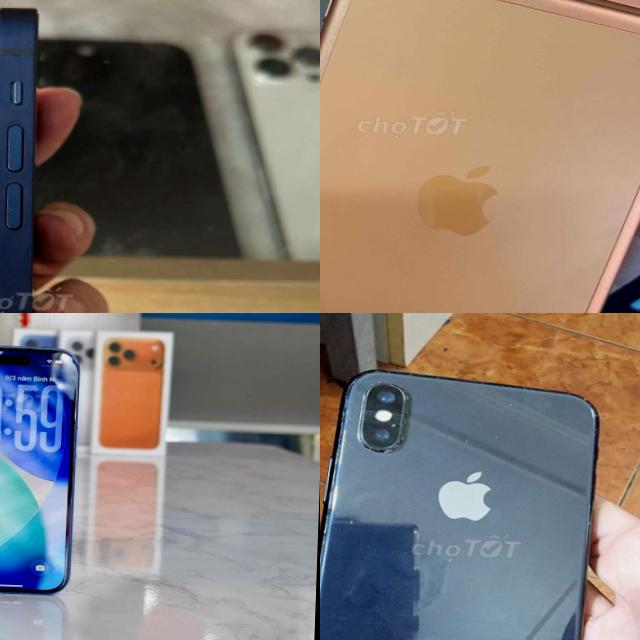scratch: (324, 378, 350, 498), (438, 428, 488, 454), (324, 510, 369, 538), (570, 394, 602, 424), (494, 390, 518, 412), (397, 389, 417, 409), (400, 522, 421, 538), (407, 562, 428, 578), (582, 519, 595, 532), (394, 434, 407, 444)
